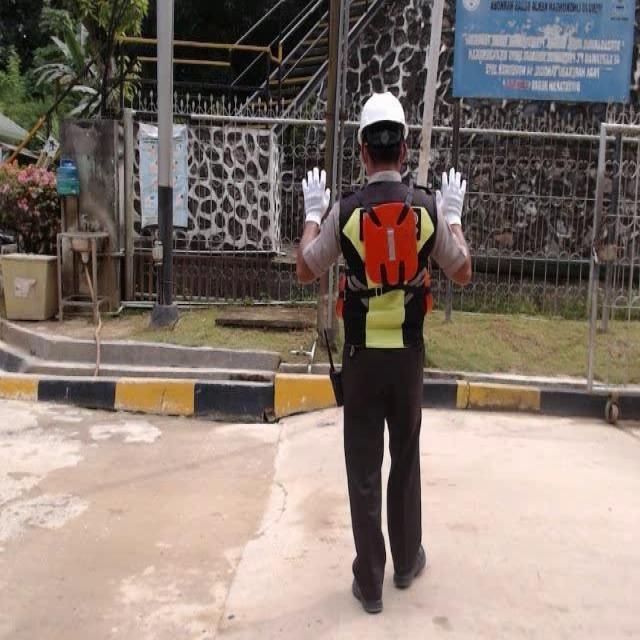helmet: (344, 86, 426, 142)
jacket: (334, 177, 444, 367)
